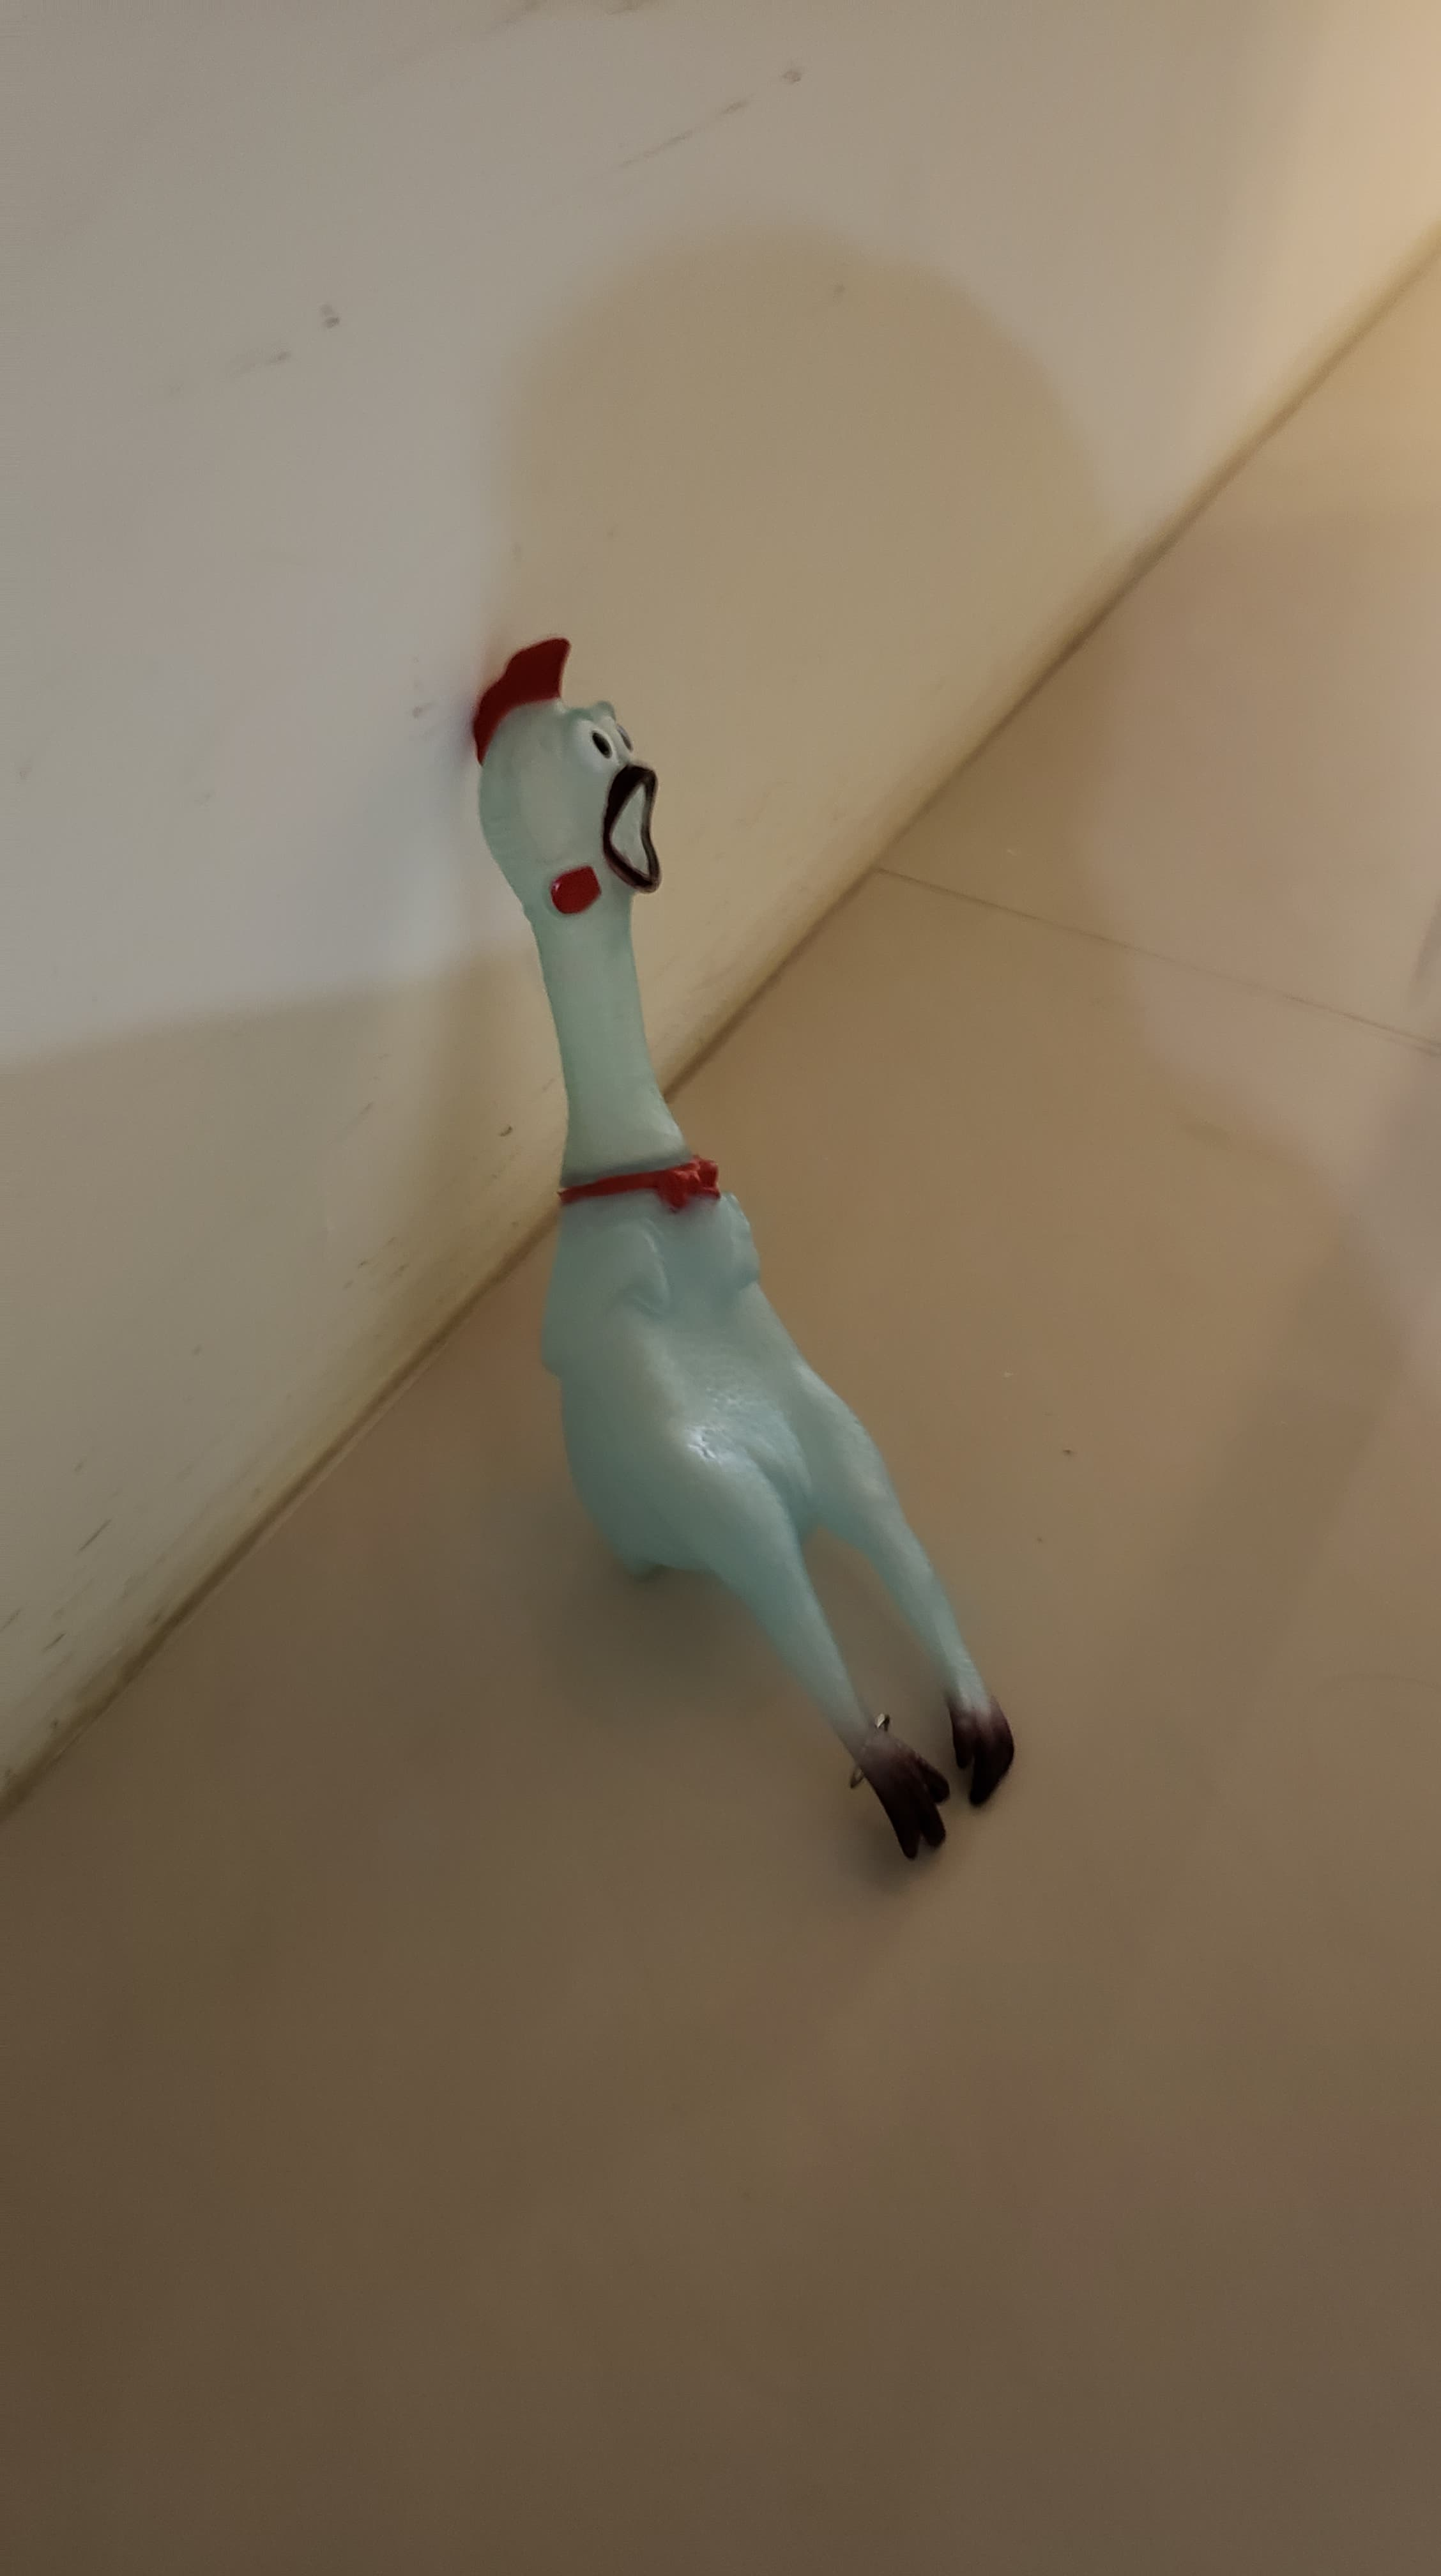Screaming chicken: (419, 619, 1047, 1884)
